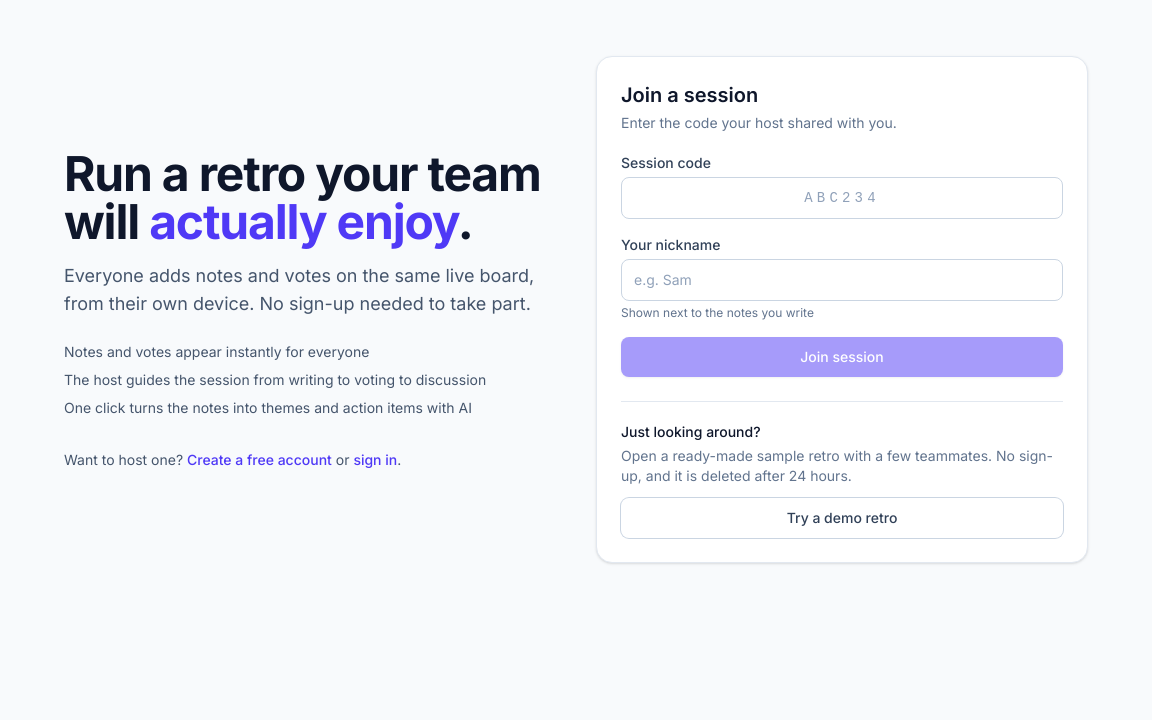
Test: Try a demo › explains why when the demo is unavailable and stays on the page
Click the button with test id "try-demo" at (842, 518), box [621,498,1063,538]
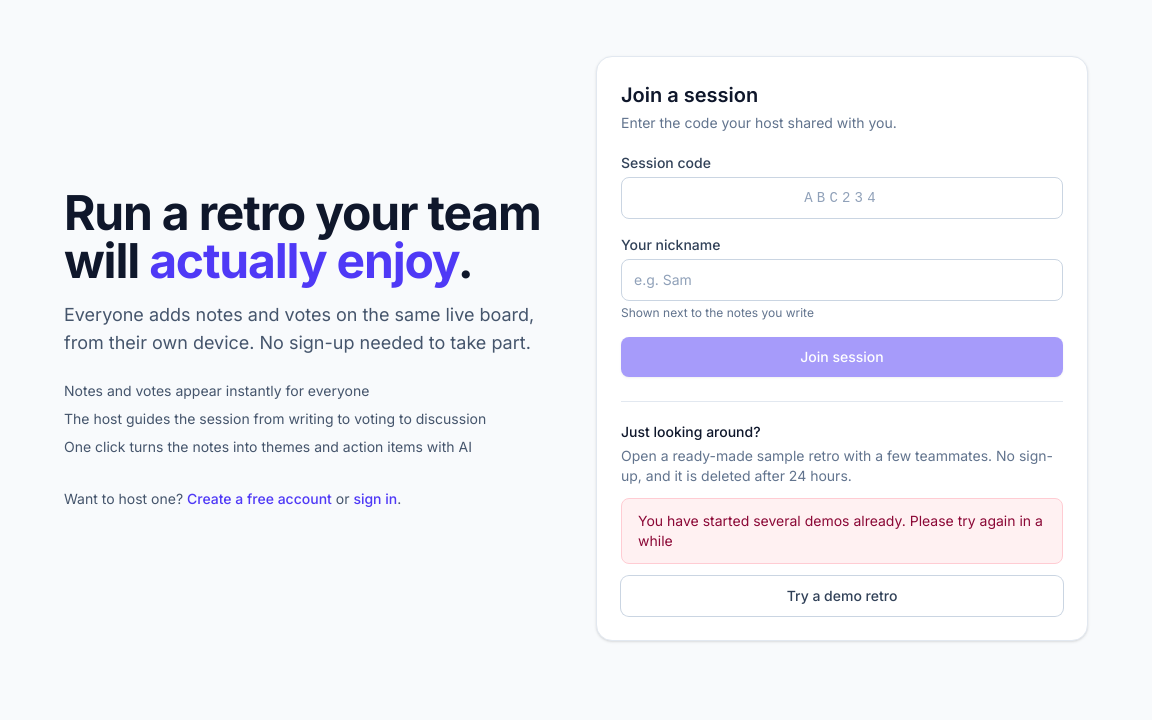
Check: the message shows "several demos already", box [638,512,1043,549]
